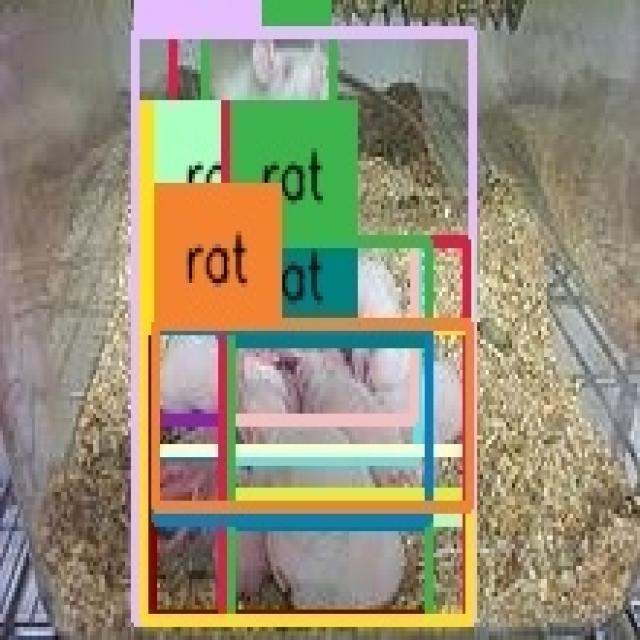rat: (137, 32, 474, 620), (140, 242, 471, 620), (142, 327, 468, 618), (224, 242, 468, 620), (156, 242, 470, 520), (151, 329, 431, 616), (230, 242, 428, 620), (156, 242, 429, 516), (156, 242, 467, 450), (230, 244, 468, 496), (156, 324, 470, 508), (154, 244, 419, 457), (230, 342, 430, 620), (230, 244, 428, 522), (154, 327, 431, 522), (154, 244, 416, 422), (230, 242, 416, 459), (230, 342, 430, 524), (231, 242, 415, 420), (173, 30, 333, 196), (204, 32, 332, 194)
